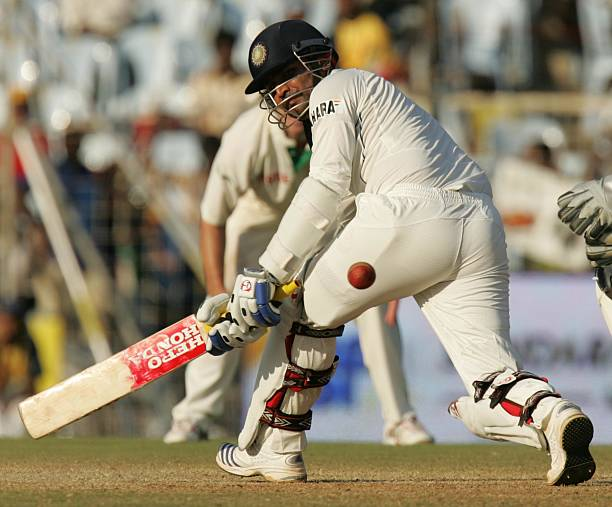bottom left: (10, 394, 30, 414)
bottom right: (21, 425, 46, 450)
top left: (179, 305, 202, 328)
top right: (193, 339, 215, 361)
